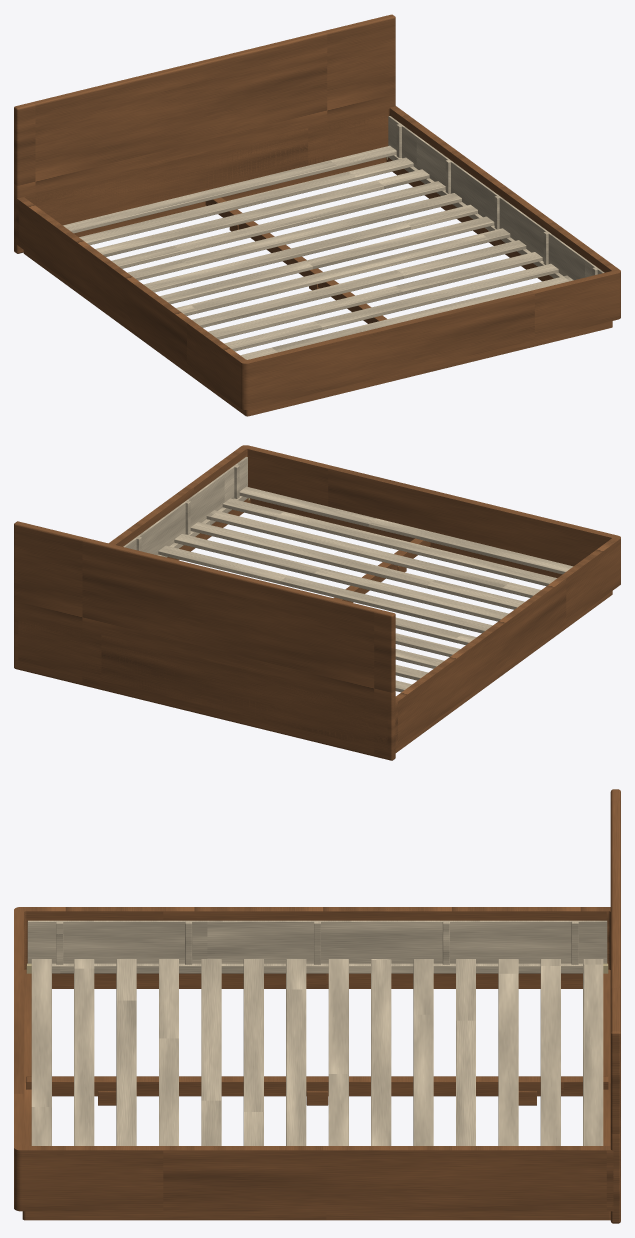
3 views of the same model, one above another, from view 1: azimuth 30°, elevation 25°; view 2: azimuth 150°, elevation 25°; view 3: azimuth 270°, elevation 25° (orthographic). The views are drawn at different scales.
Parts seen in each view (by area): view 1: Continuous rounded walnut perimeter rails, Full width rounded headboard, Recessed open plinth, Inner rail liner 1, Pale cross slat 02, Pale cross slat 08, Pale cross slat 09, Pale cross slat 03, Pale cross slat 06, Pale cross slat 04, Pale cross slat 05, Pale cross slat 07 (+6 smaller); view 2: Continuous rounded walnut perimeter rails, Full width rounded headboard, Pale cross slat 13, Pale cross slat 11, Pale cross slat 10, Pale cross slat 12, Pale cross slat 14, Pale cross slat 09, Inner rail liner 1, Recessed open plinth, Pale cross slat 08, Pale cross slat 07 (+2 smaller); view 3: Continuous rounded walnut perimeter rails, Inner rail liner -1, Recessed open plinth, Longitudinal central support, Full width rounded headboard, Pale cross slat 01, Pale cross slat 02, Pale cross slat 03, Pale cross slat 05, Pale cross slat 06, Pale cross slat 07, Pale cross slat 08 (+8 smaller).
Boxes of the visible parts, x1,y1,x2,y2 form: Continuous rounded walnut perimeter rails: (16, 106, 620, 409); Full width rounded headboard: (14, 14, 395, 253); Recessed open plinth: (23, 157, 612, 416); Inner rail liner 1: (388, 116, 604, 280); Pale cross slat 02: (79, 157, 413, 245); Pale cross slat 08: (176, 228, 510, 315); Pale cross slat 09: (192, 240, 526, 327); Pale cross slat 03: (95, 169, 429, 256); Pale cross slat 06: (143, 204, 477, 292); Pale cross slat 04: (111, 181, 445, 268); Pale cross slat 05: (127, 193, 461, 280); Pale cross slat 07: (160, 216, 494, 304); Continuous rounded walnut perimeter rails: (18, 445, 620, 750); Full width rounded headboard: (14, 521, 395, 760); Pale cross slat 13: (222, 498, 557, 586); Pale cross slat 11: (190, 522, 524, 609); Pale cross slat 10: (174, 534, 508, 621); Pale cross slat 12: (206, 510, 540, 597); Pale cross slat 14: (239, 486, 573, 574); Pale cross slat 09: (158, 545, 492, 633); Inner rail liner 1: (123, 457, 247, 554); Recessed open plinth: (167, 498, 612, 752); Pale cross slat 08: (395, 617, 476, 645); Pale cross slat 07: (395, 633, 460, 656); Continuous rounded walnut perimeter rails: (14, 907, 613, 1211); Inner rail liner -1: (27, 920, 607, 963); Recessed open plinth: (22, 969, 610, 1220); Longitudinal central support: (26, 1076, 608, 1096); Full width rounded headboard: (610, 789, 620, 1223); Pale cross slat 01: (583, 959, 603, 1145); Pale cross slat 02: (540, 959, 560, 1145); Pale cross slat 03: (498, 959, 518, 1145); Pale cross slat 05: (413, 959, 433, 1145); Pale cross slat 06: (371, 959, 391, 1145); Pale cross slat 07: (328, 959, 348, 1145); Pale cross slat 08: (286, 959, 306, 1145).
Size of the model in its own units: 2.01 by 0.7409 by 2.12.
Materials: 4 (2 with a texture image).
